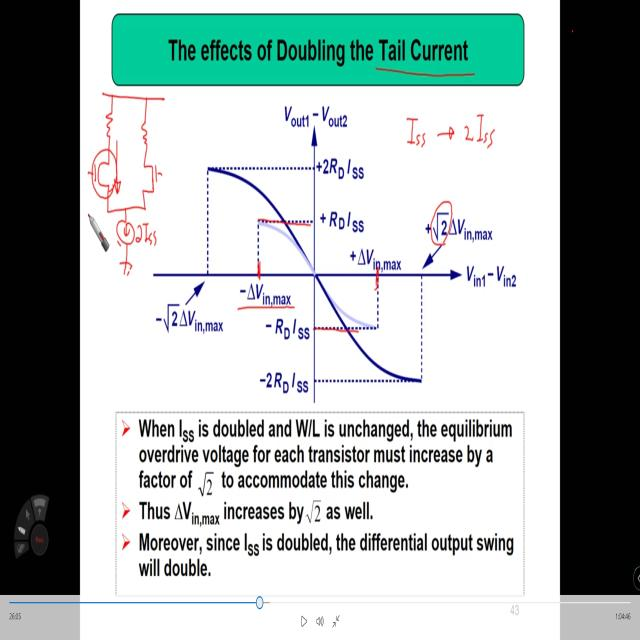panseo: (84, 70, 174, 299), (391, 105, 507, 167)
